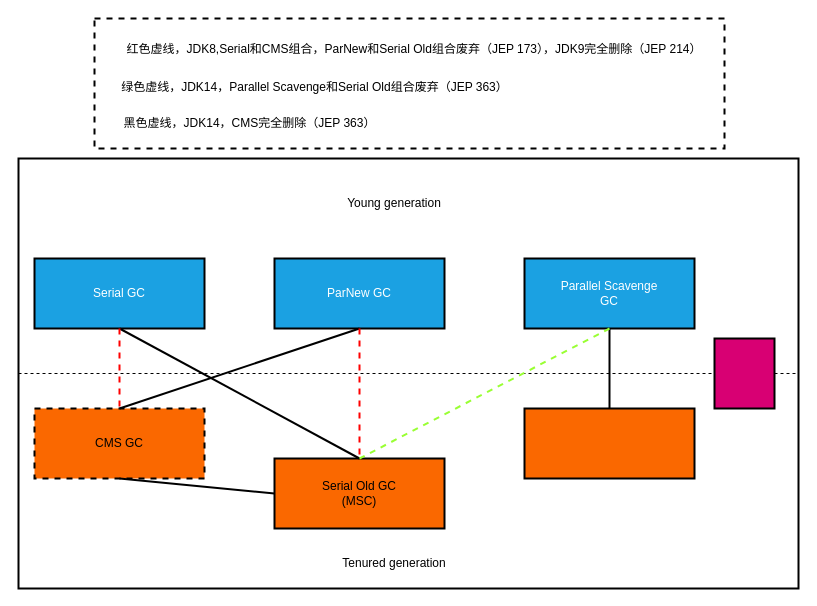
Some shapes in this 817 by 606 pixel diagram are drawn without their labels. Here are the shapes that lost their labels. From the top down, the centre of each, then its label:
(744,373): G1 GC
(609,443): Parallel Old GC
